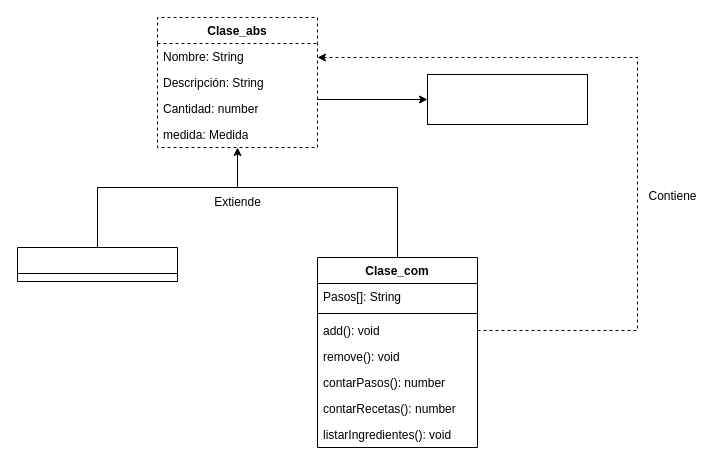
This 725x468 diagram has some shape labels left out. The centre of each missing label's shape, as x and y in pixels:
<<ENUM>> Medida LITRO, GRAMO, UNIDAD: the point at 507,99
Clase_sim: the point at 97,264
